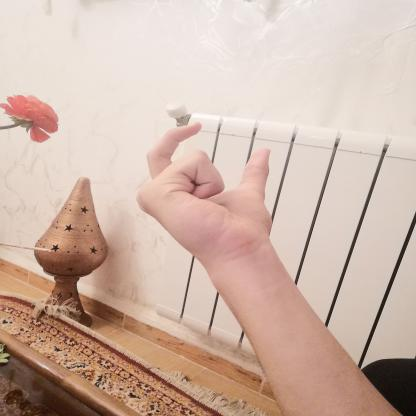NOON: (118, 116, 290, 267)
